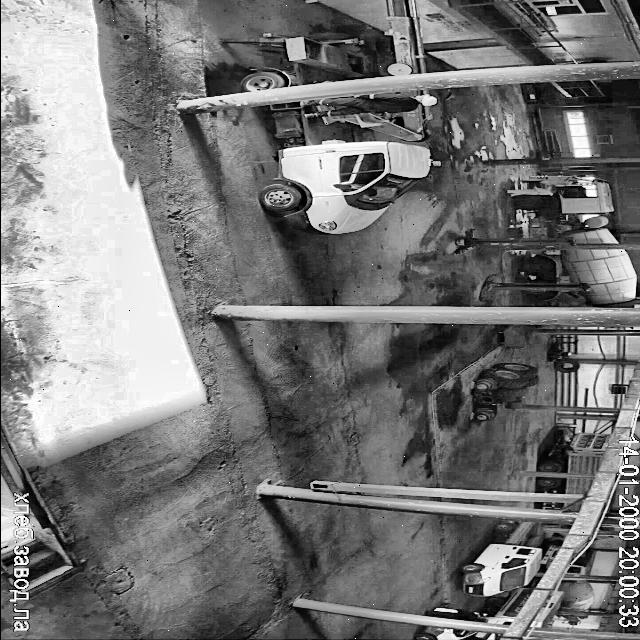class4: (300, 92, 436, 116), (426, 610, 483, 620), (507, 188, 556, 196)
class7: (260, 103, 439, 233), (222, 28, 380, 92), (517, 176, 615, 244), (523, 248, 636, 306), (460, 522, 540, 596), (386, 0, 426, 75), (538, 433, 610, 474), (484, 588, 532, 624), (243, 66, 308, 91), (556, 580, 594, 611), (414, 625, 491, 640), (532, 592, 561, 627), (538, 476, 592, 494), (566, 549, 594, 574), (541, 536, 563, 560), (544, 500, 579, 510), (563, 612, 587, 624), (434, 607, 466, 612), (405, 90, 420, 96), (487, 635, 497, 640), (479, 615, 483, 620)
truck: (221, 36, 364, 76), (324, 104, 429, 140)
